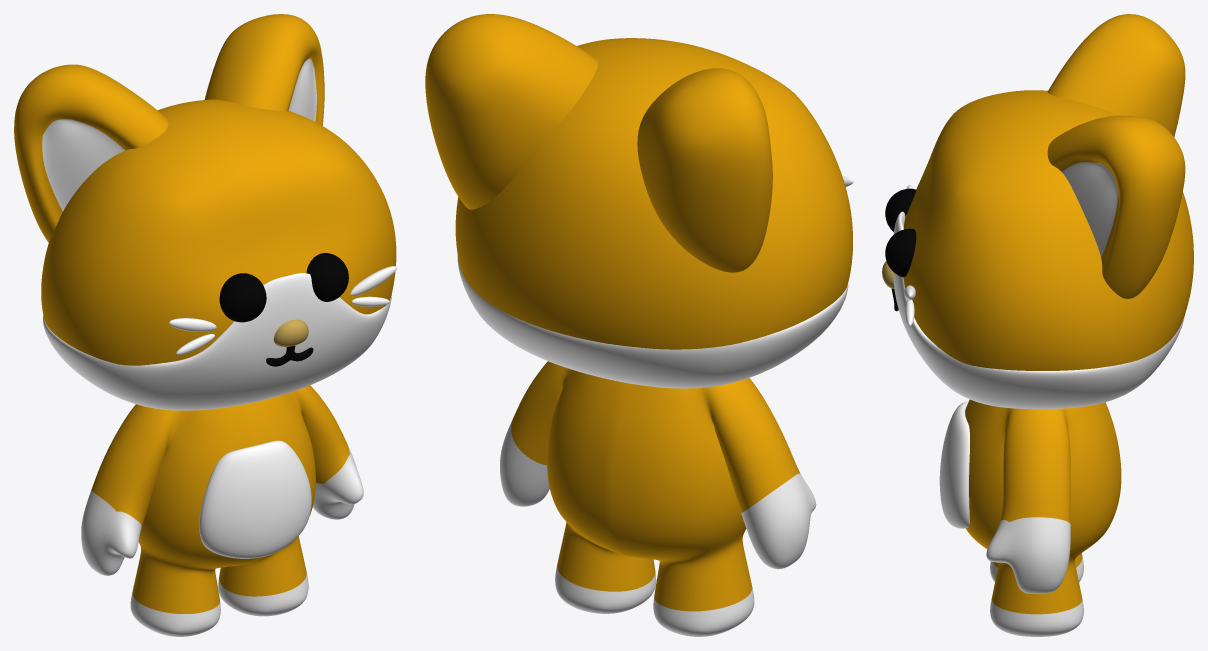
File: Cat_3d.glb
The picture shows the model from 3 angles, left to right: view 1: azimuth 30°, elevation 25°; view 2: azimuth 150°, elevation 25°; view 3: azimuth 270°, elevation 25°; orthographic projection. The views are drawn at different scales.
Visible parts, largest first — view 1: Cube.008, Cube.020, Cube.010, Cube.011, Cube.021, Sphere, Sphere.004, Cube.018, Sphere.005; view 2: Cube.008, Cube.020, Cube.010, Cube.011; view 3: Cube.008, Cube.020, Cube.010, Cube.011, Cube.021, Sphere.
Boxes of the visible parts, bbox=[...] form: Cube.008: bbox=[41, 99, 396, 365]; Cube.020: bbox=[81, 385, 363, 636]; Cube.010: bbox=[14, 14, 324, 242]; Cube.011: bbox=[43, 273, 392, 410]; Cube.021: bbox=[199, 440, 311, 558]; Sphere: bbox=[219, 253, 348, 322]; Sphere.004: bbox=[169, 266, 396, 331]; Cube.018: bbox=[273, 319, 308, 346]; Sphere.005: bbox=[176, 296, 389, 354]; Cube.008: bbox=[455, 38, 852, 349]; Cube.020: bbox=[500, 361, 816, 636]; Cube.010: bbox=[425, 14, 772, 272]; Cube.011: bbox=[457, 256, 848, 388]; Cube.008: bbox=[903, 90, 1193, 370]; Cube.020: bbox=[965, 399, 1121, 636]; Cube.010: bbox=[1047, 14, 1185, 298]; Cube.011: bbox=[893, 211, 1184, 409]; Cube.021: bbox=[939, 401, 969, 528]; Sphere: bbox=[885, 188, 916, 277].
Size of the model in its own units: 3.66 by 5.89 by 3.09.
